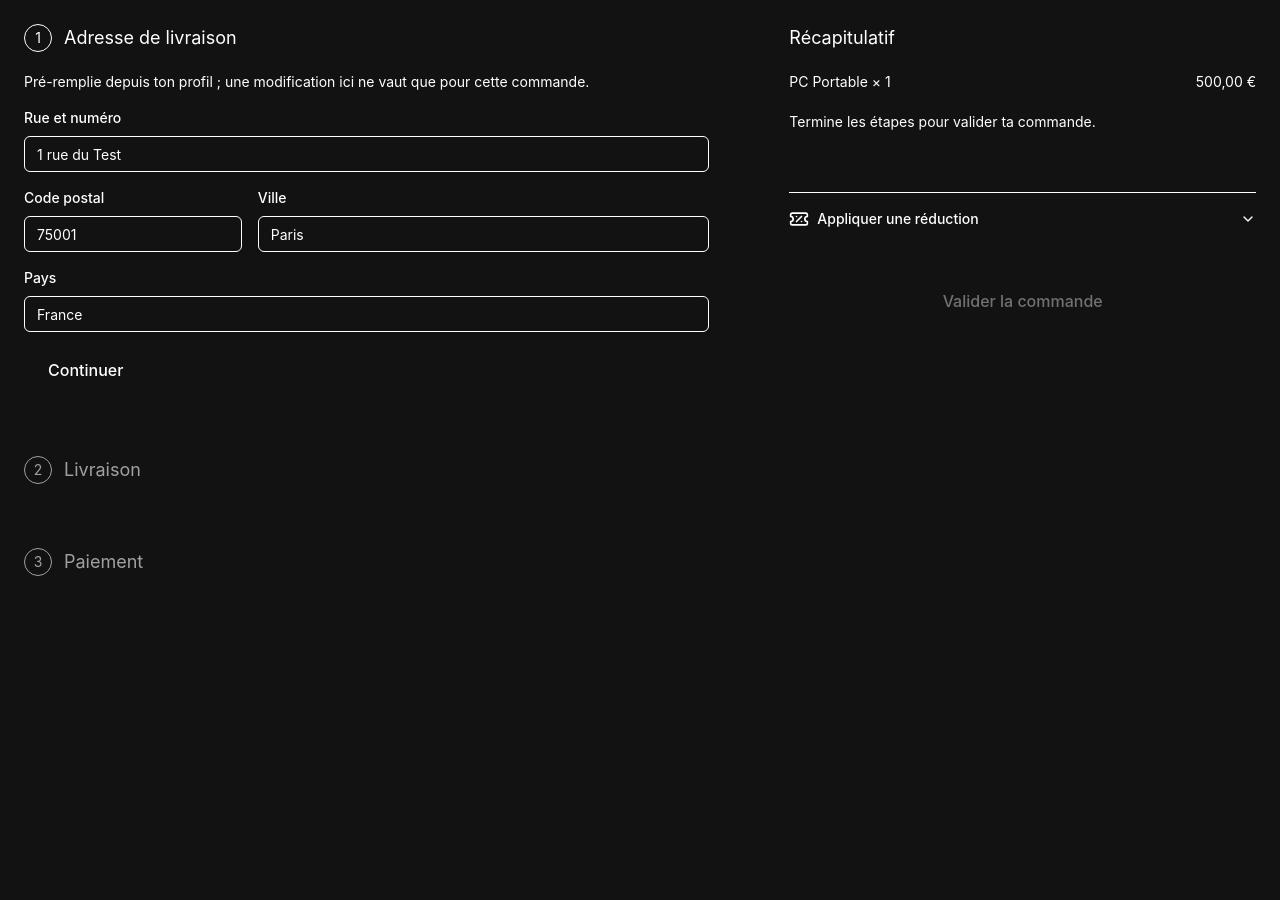
CheckoutFlow › unfolds the steps one at a time and keeps the choices when a step is reopened
expect the field labelled "Ville" holds "Paris": met, box [258,216,709,252]
expect the radio button labelled "Livraison express" is not shown: met
Click the button "Continuer": [86, 370] box [24,348,147,392]
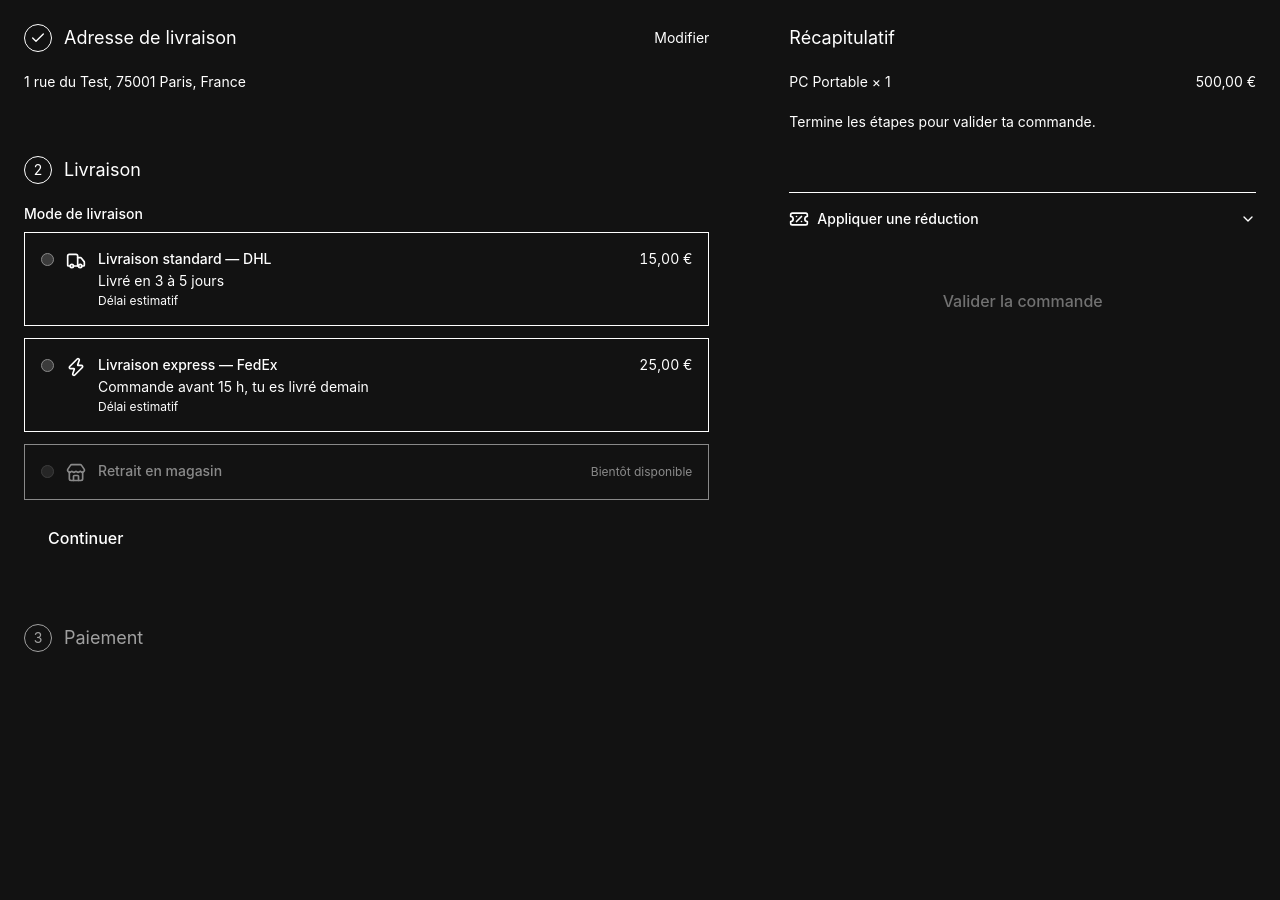
Click the radio button labelled "Livraison express — FedEx": [48, 366] box [41,359,54,372]
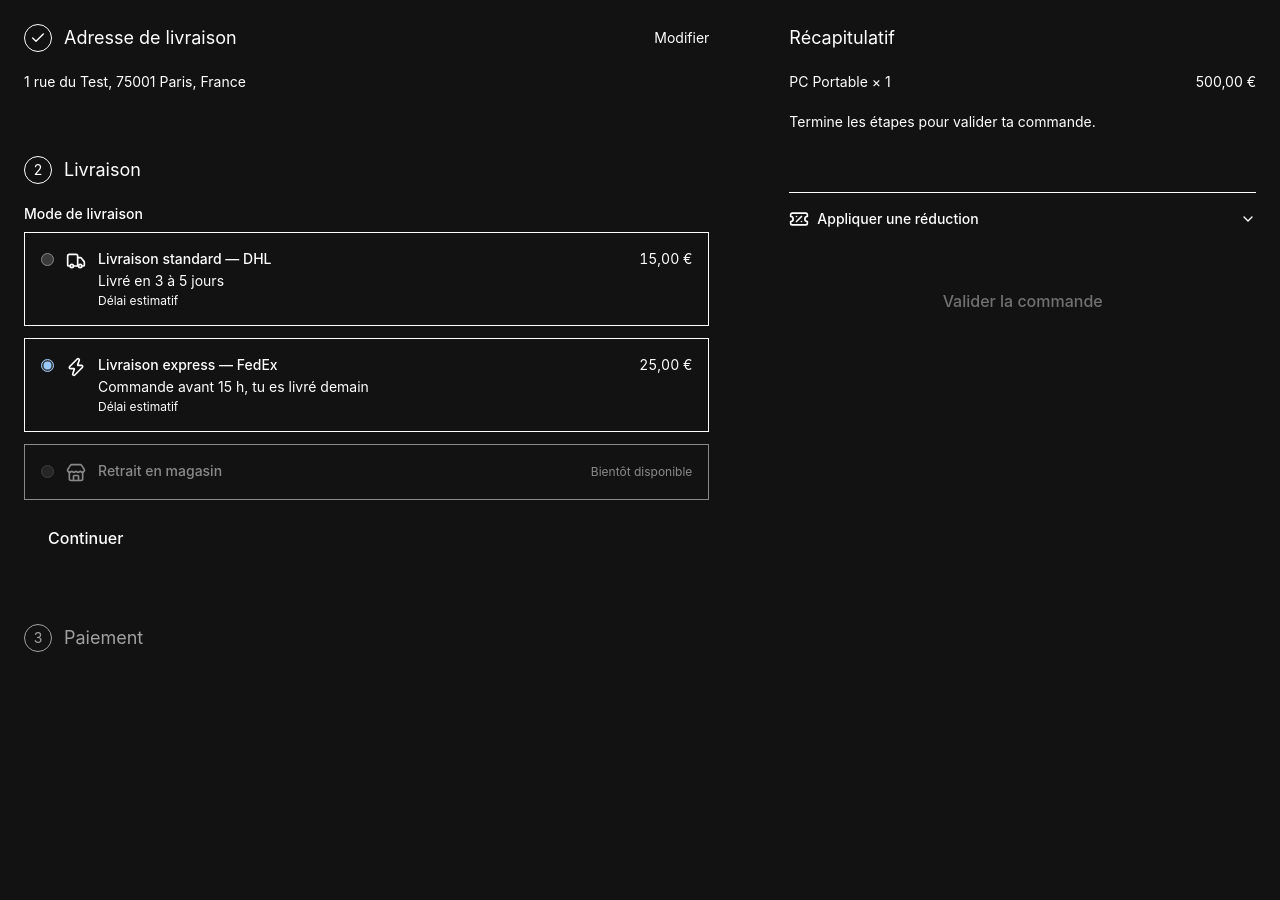
Click the button "Continuer": [86, 538] box [24,516,147,560]
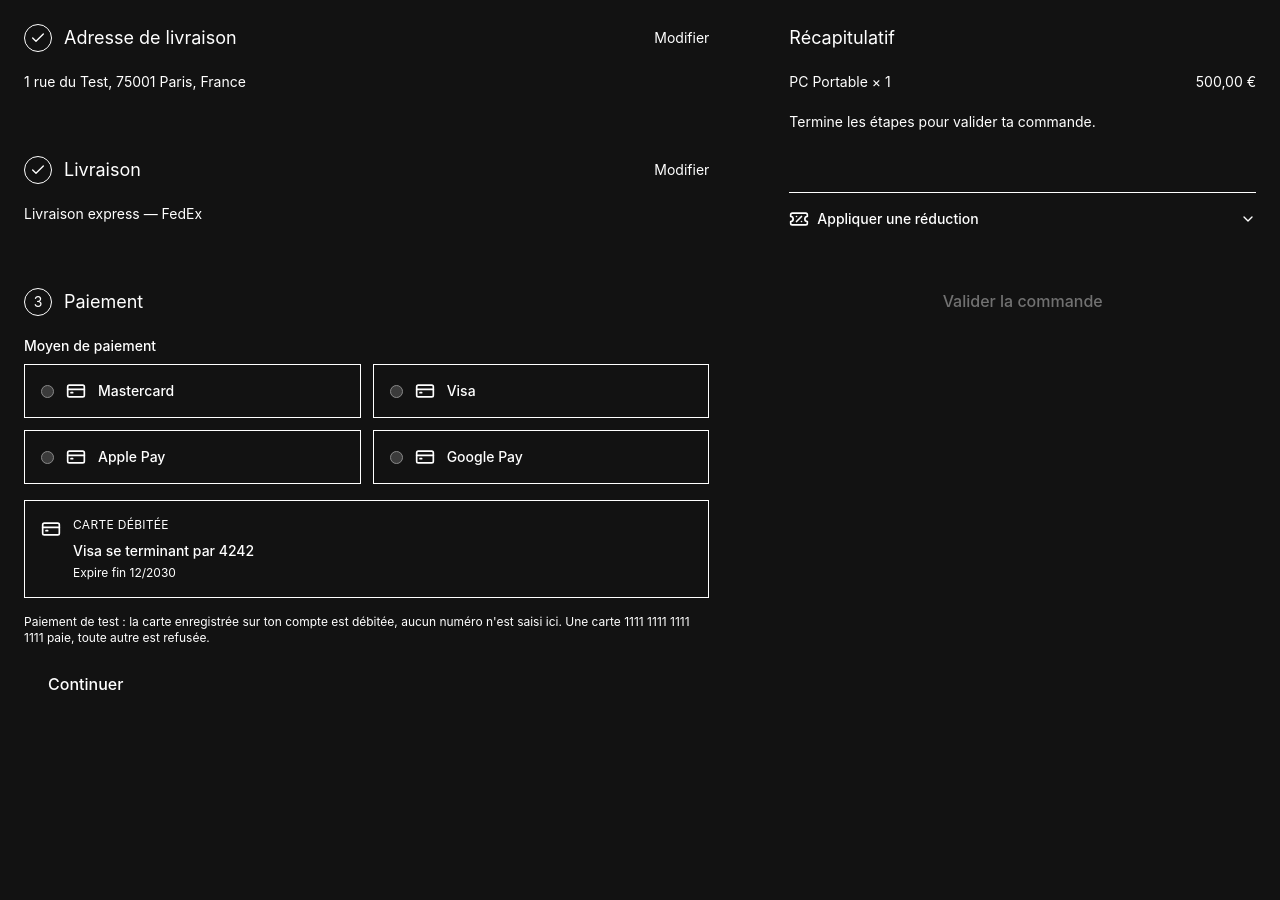
expect the text "Livraison express — FedEx" is shown: met, box [24,205,202,222]
Click the button with aria-label "Modifier : Livraison": [682, 170] box [654,160,709,180]
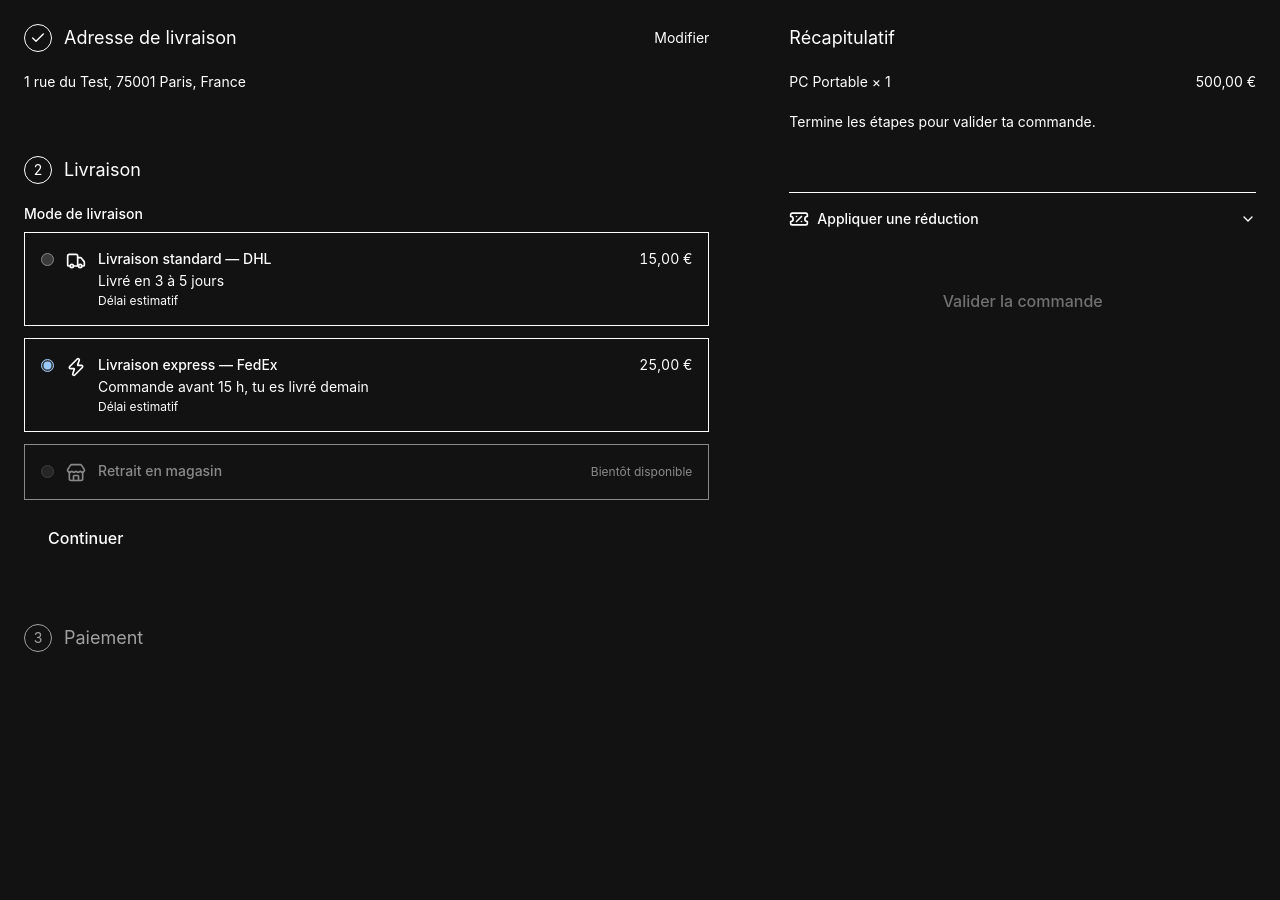
expect the radio button labelled "Livraison express — FedEx" is checked: met, box [41,359,54,372]
